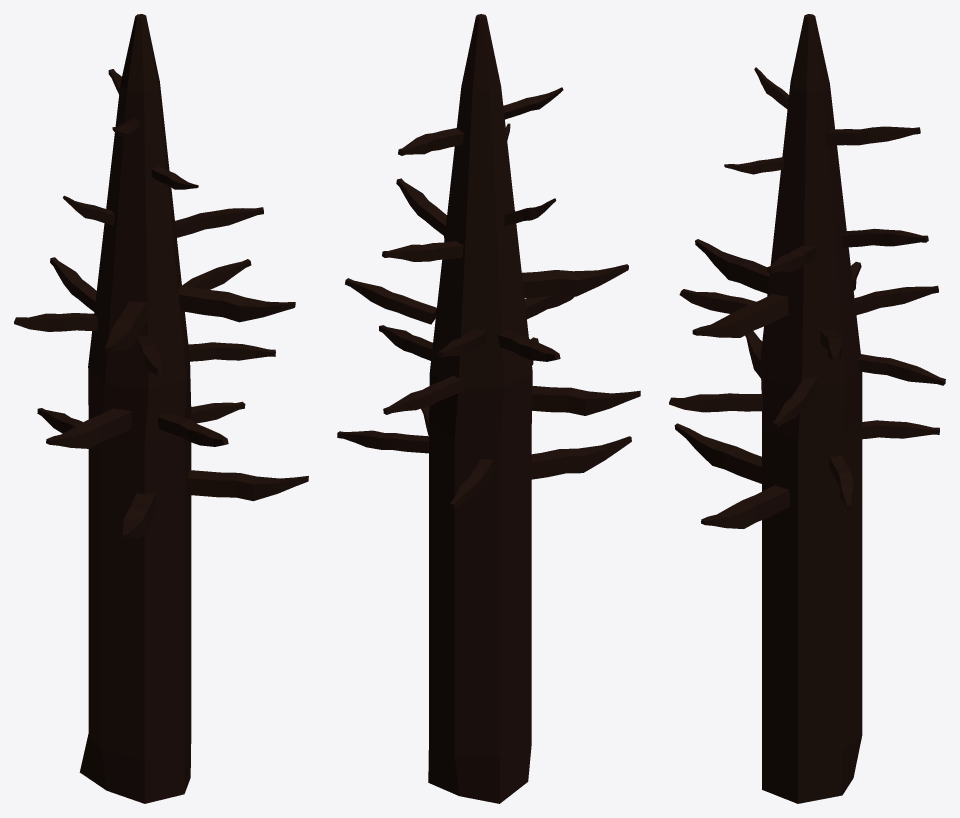
File: deadtreeforest1noelle.obj
The picture shows the model from 3 angles, left to right: view 1: azimuth 30°, elevation 25°; view 2: azimuth 150°, elevation 25°; view 3: azimuth 270°, elevation 25°; orthographic projection.
Visible parts, largest first — view 1: Cube.011; view 2: Cube.011; view 3: Cube.011.
Part boxes in pixels (box(x1,y1,x2,y2)): Cube.011: box(14, 14, 308, 803); Cube.011: box(337, 14, 640, 803); Cube.011: box(669, 14, 945, 803).
Bounding box in the file's own units: 0.9819 × 2.88 × 0.9428.
